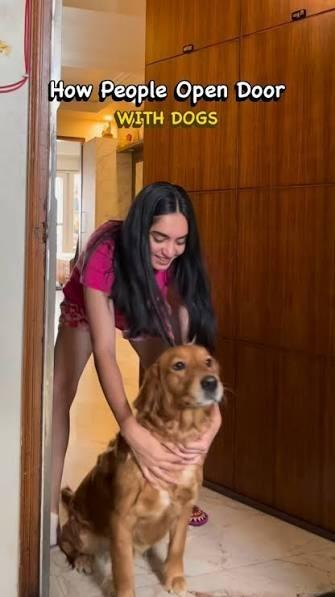adult_dog: (55, 343, 230, 597)
non-dog: (39, 182, 226, 554)
